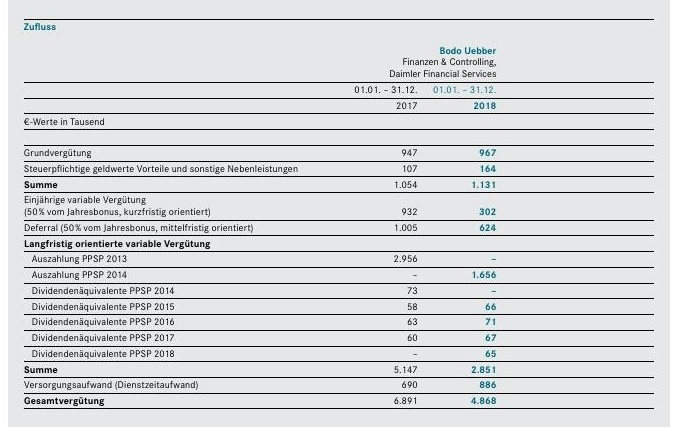table: (0, 0, 675, 427)
